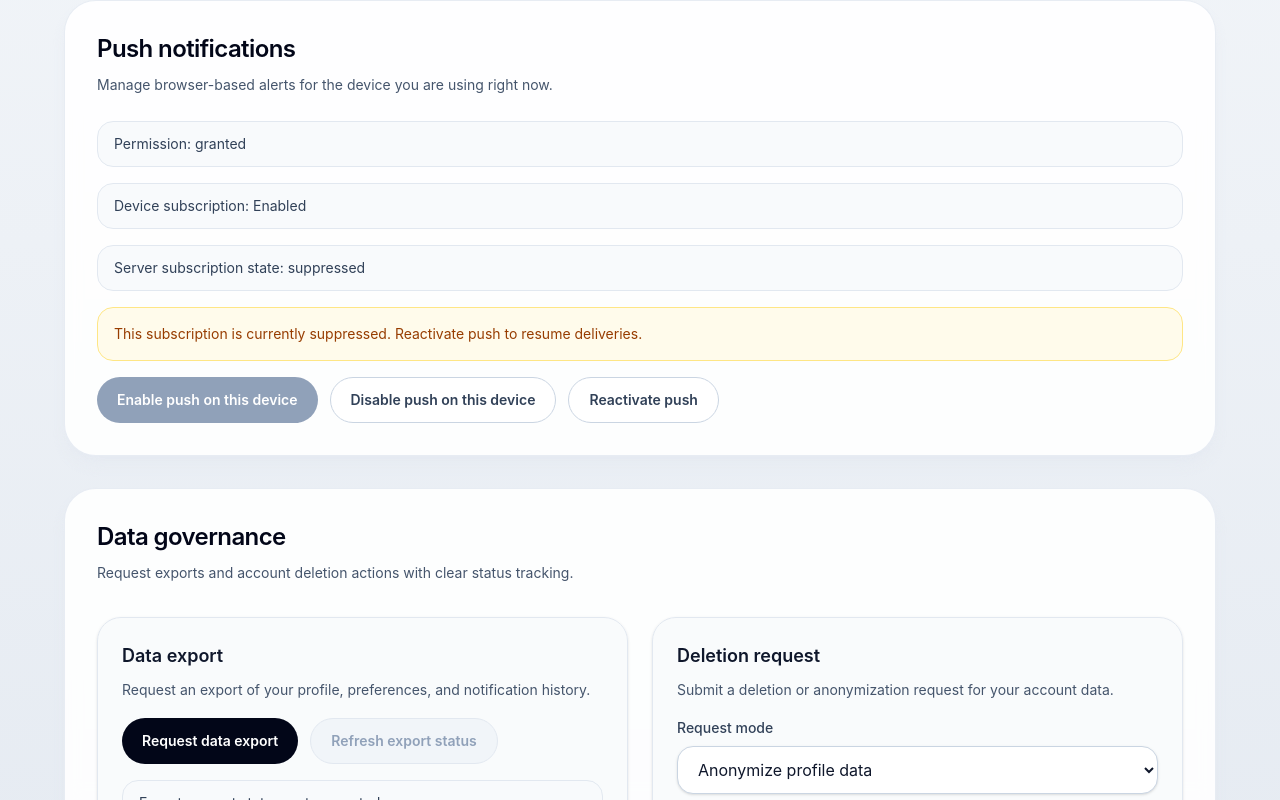
Test: SettingsPreferencesForm › maps suppressed backend state to reactivate action
The image size is (1280, 800).
(page scrolled)
Expected: the text "Server subscription state: suppressed" is shown, [97,245,1183,291]
Expected: the text "This subscription is currently suppressed. Reactivate push to resume deliveries." is shown, [97,307,1183,361]
Click the button "Reactivate push" at (644, 400), box [568,377,719,423]
(page scrolled)
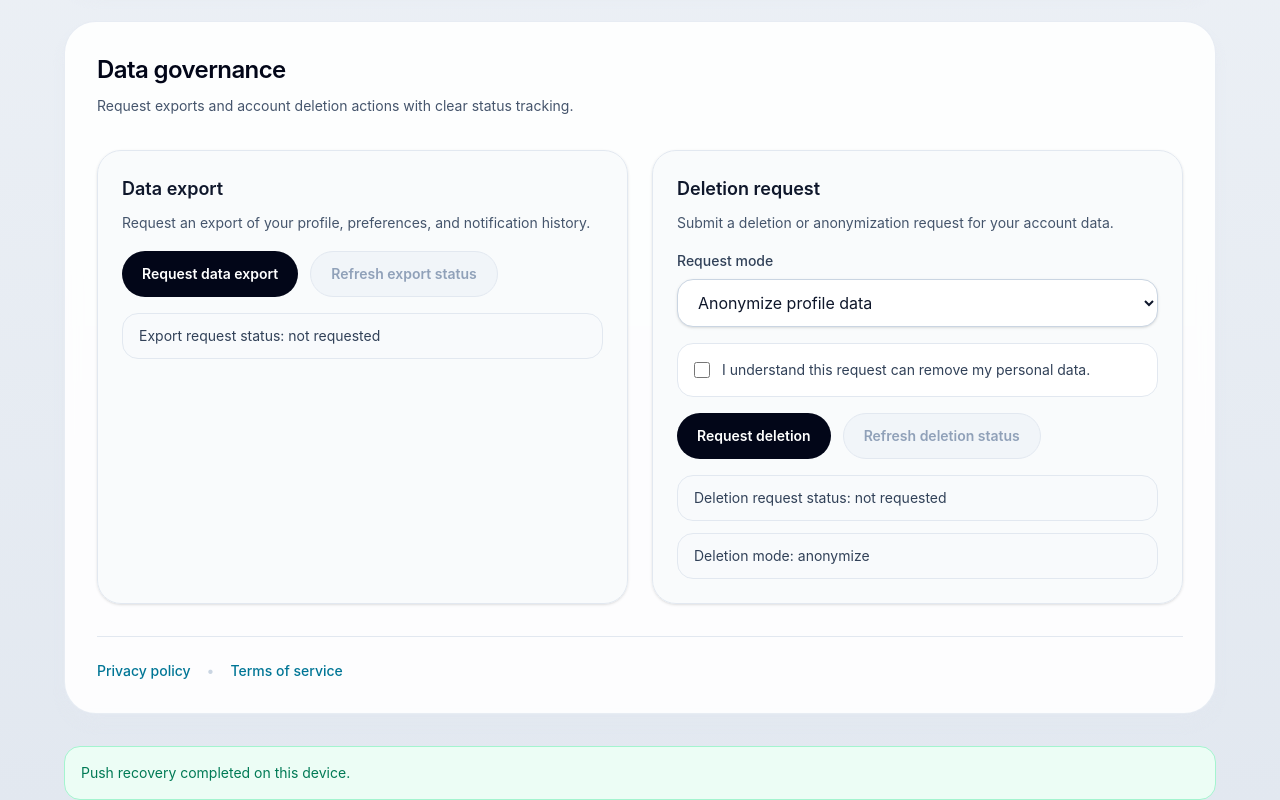
Expected: the text "Push recovery completed on this device." is shown, [64,746,1216,799]
